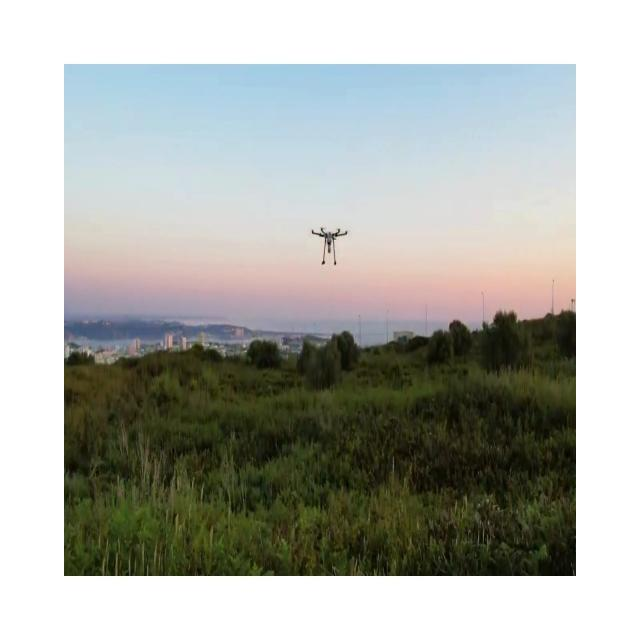drone: (310, 226, 348, 265)
